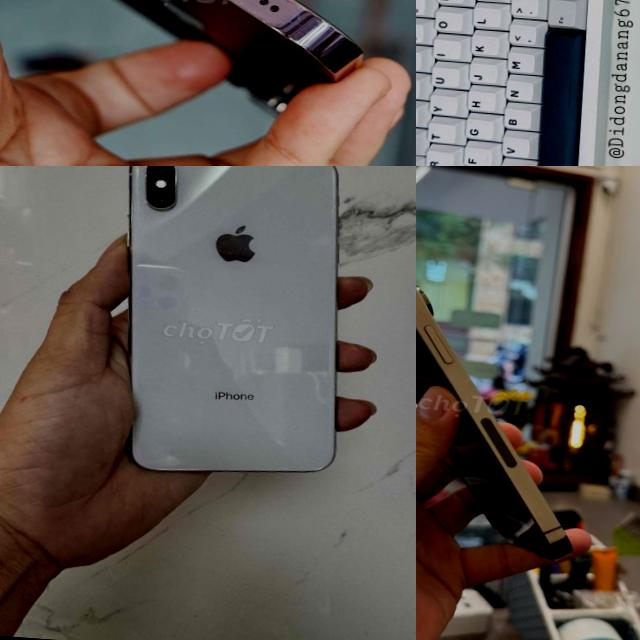gen_14: (416, 230, 603, 570), (0, 0, 389, 99)
gen_x_xs: (98, 166, 359, 485)
